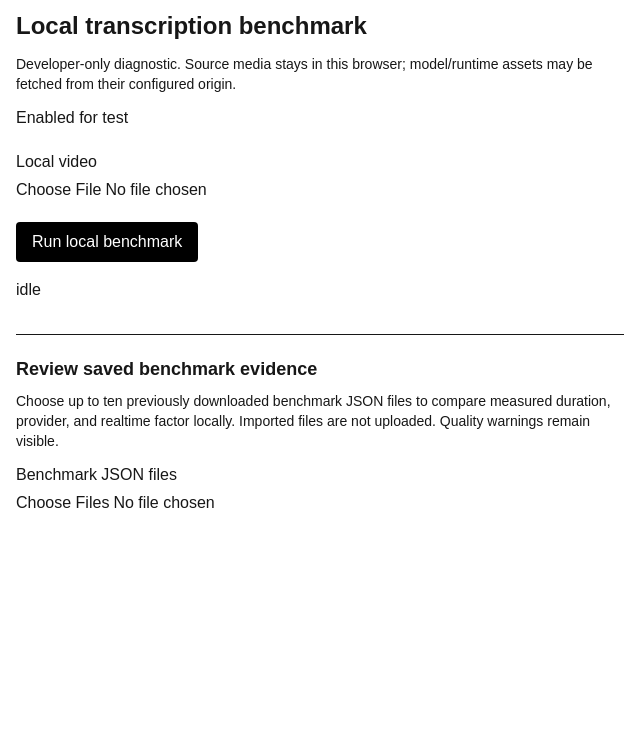
Test case: local transcription benchmark evidence lifecycle › does not mark a completed run as passed when evidence quality fails
This screenshot has width=641, height=746.
Earlier steps of the test are not shown.
Click the button "Run local benchmark": coordinates (107, 242) [16,222,198,262]
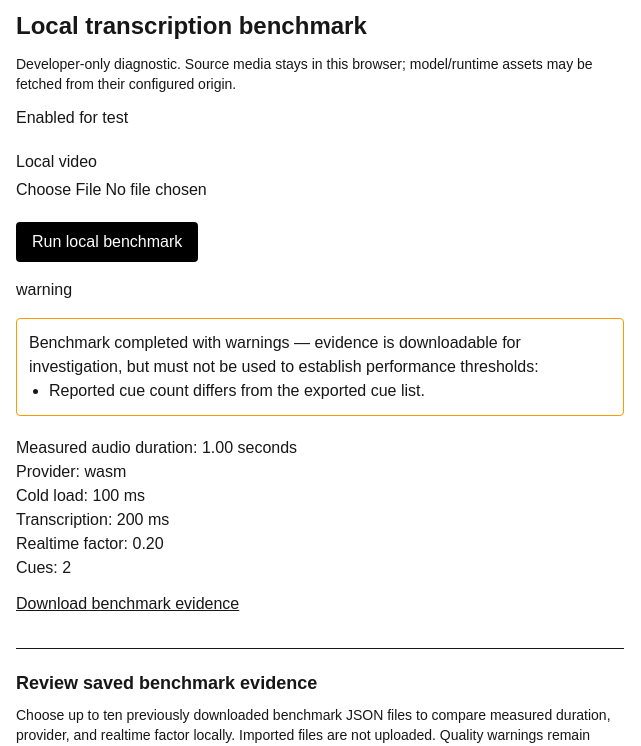
Check: the text with test id "benchmark-status" reads "warning", box [16,281,72,298]
Check: the message with test id "benchmark-evidence-warnings" shows "Reported cue count differs", box [49,382,425,399]
Check: the button "Download benchmark evidence" is enabled, box [16,592,239,616]
